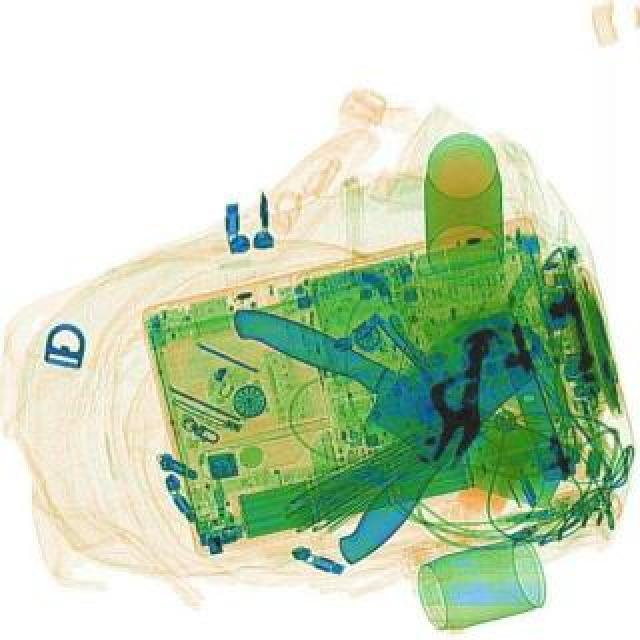knife: (208, 294, 580, 516), (276, 306, 544, 568)
